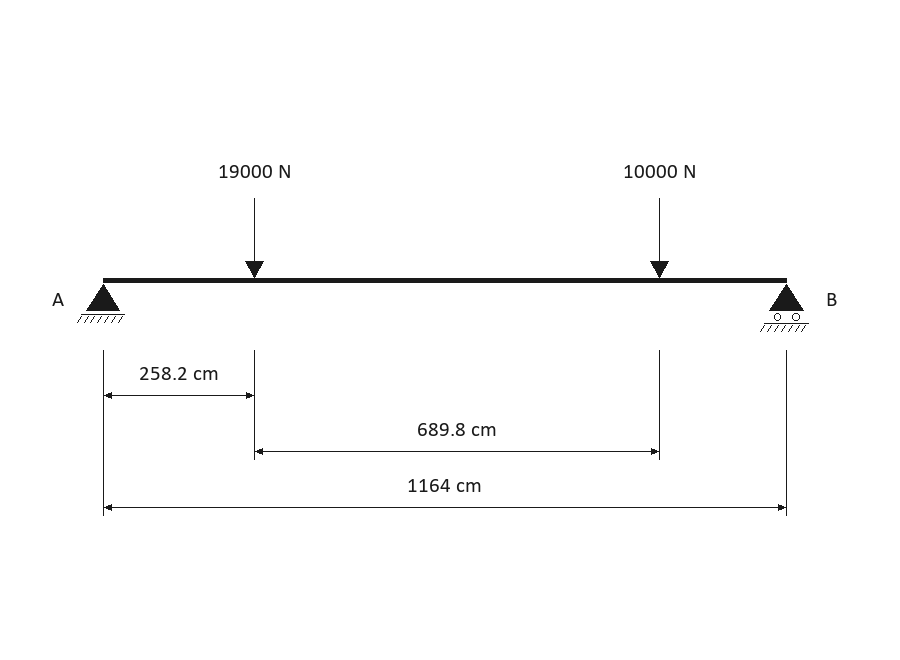pin_support: (77, 284, 125, 323)
point_load: (245, 198, 264, 278), (650, 198, 669, 278)
roller_support: (760, 284, 809, 332)
